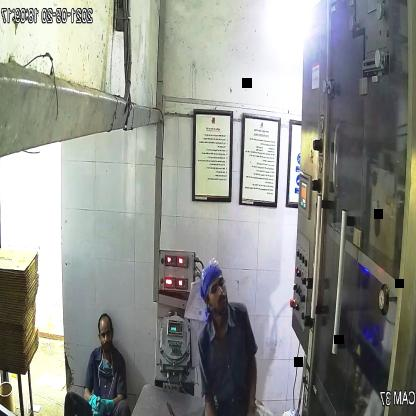no_goggles: (204, 276, 230, 300), (97, 326, 114, 342)
